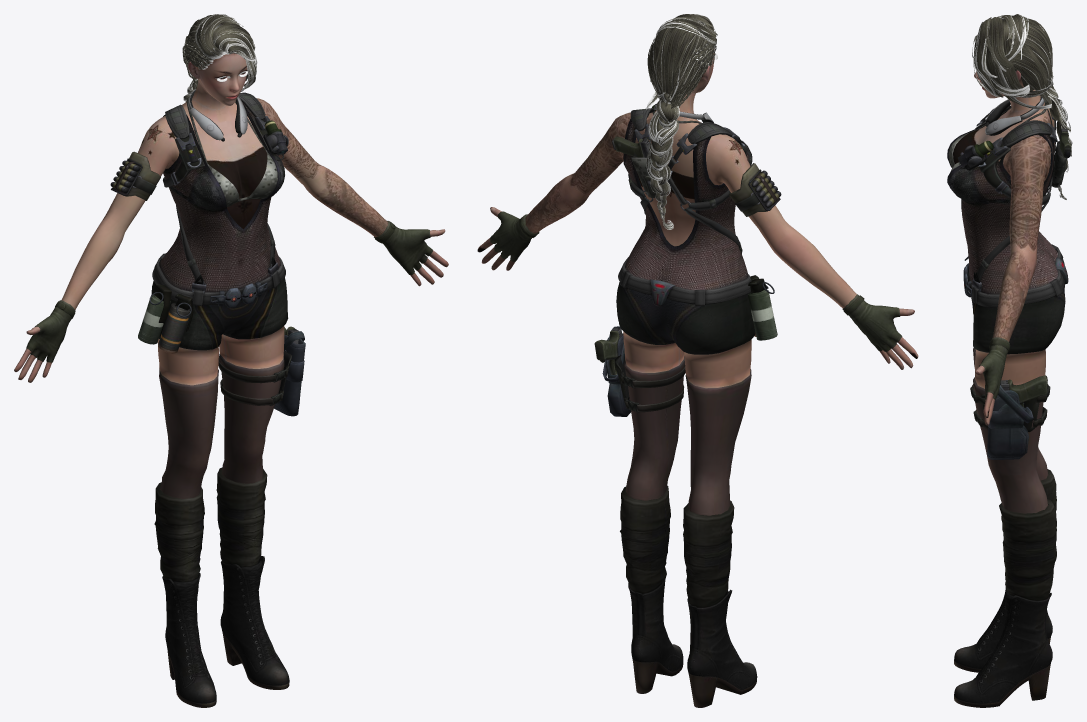
Rendered from shirley_modif_test1.glb.
3 views of the same model, side by side, from view 1: azimuth 30°, elevation 25°; view 2: azimuth 150°, elevation 25°; view 3: azimuth 270°, elevation 25° (orthographic).
Parts seen in each view (by area): view 1: Mesh_0043; view 2: Mesh_0043; view 3: Mesh_0043.
Part boxes in pixels (<box>): Mesh_0043: <box>14,14,448,707</box>; Mesh_0043: <box>477,14,918,707</box>; Mesh_0043: <box>947,14,1072,707</box>.
Size of the model in its own units: 6.19 by 9 by 1.53.
Materials: 6 (6 with a texture image).
